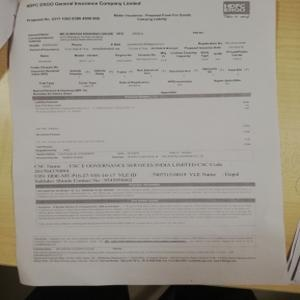image: (221, 1, 252, 17)
table: (31, 92, 253, 159)
text: (29, 33, 256, 93), (33, 159, 240, 182), (39, 200, 254, 221)
